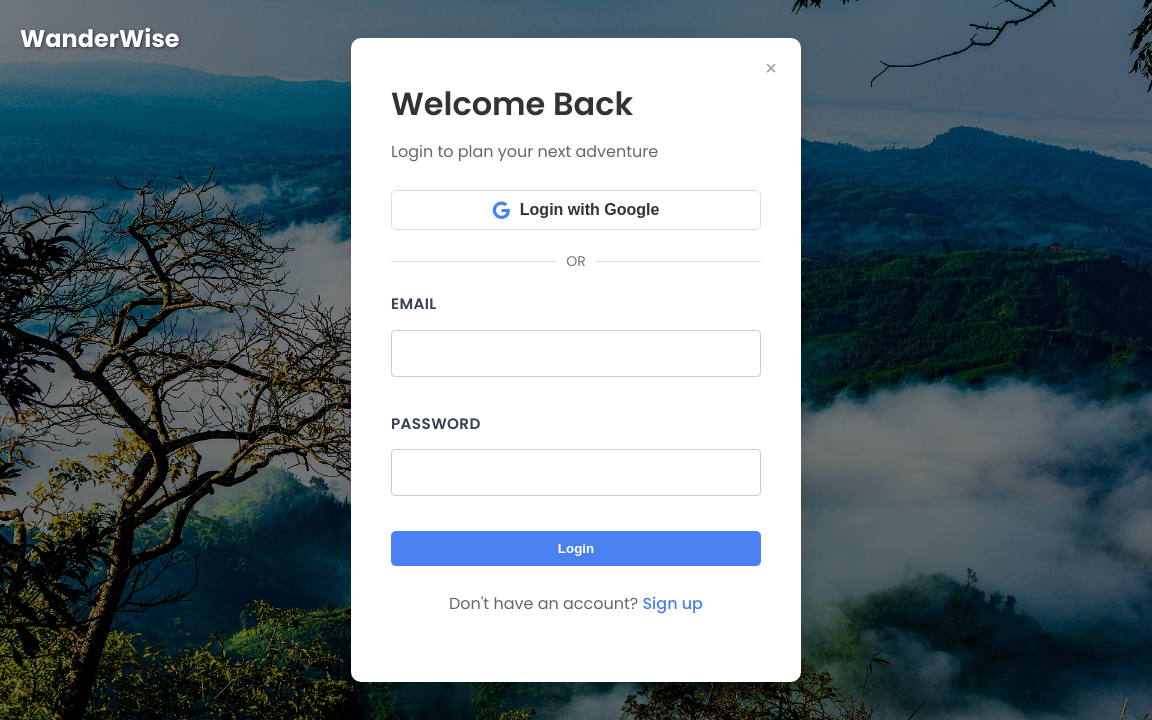
Test: Authentication Integration Tests › Login Flow Integration › login with network error shows generic error
The image size is (1152, 720).
Type "test@example.com" into the field labelled "Email" at (576, 353), box [391,330,761,377]
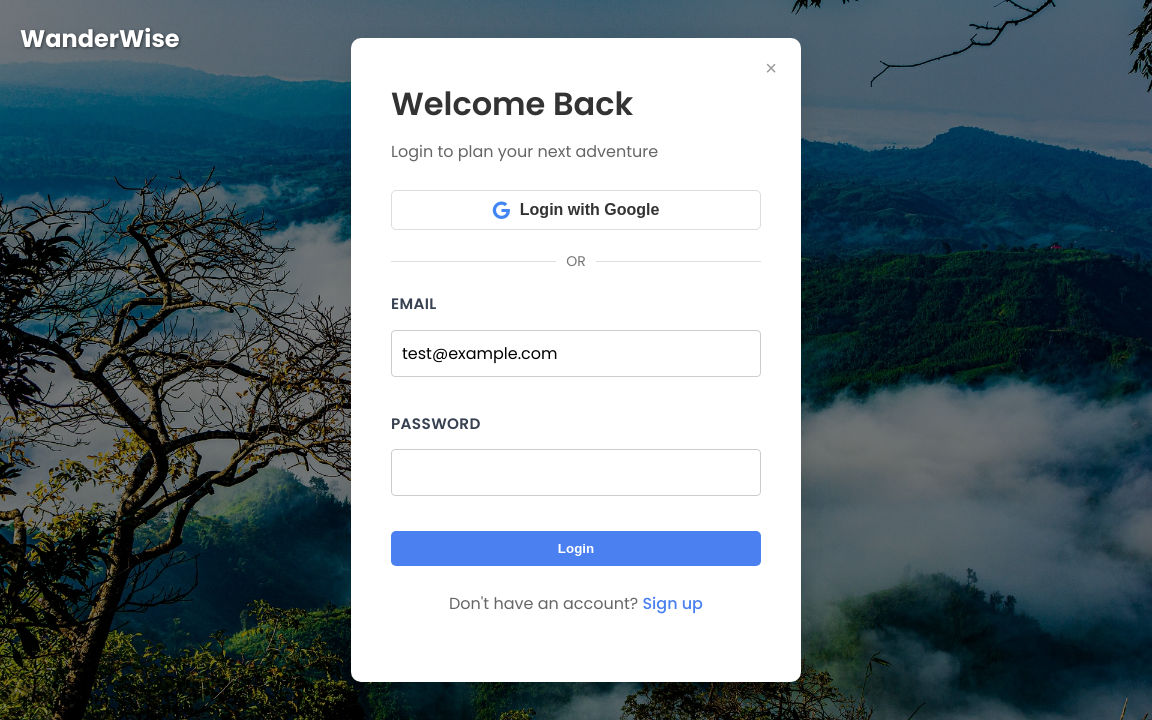
Type "password123" into the password field labelled "Password" at (576, 473), box [391,449,761,496]
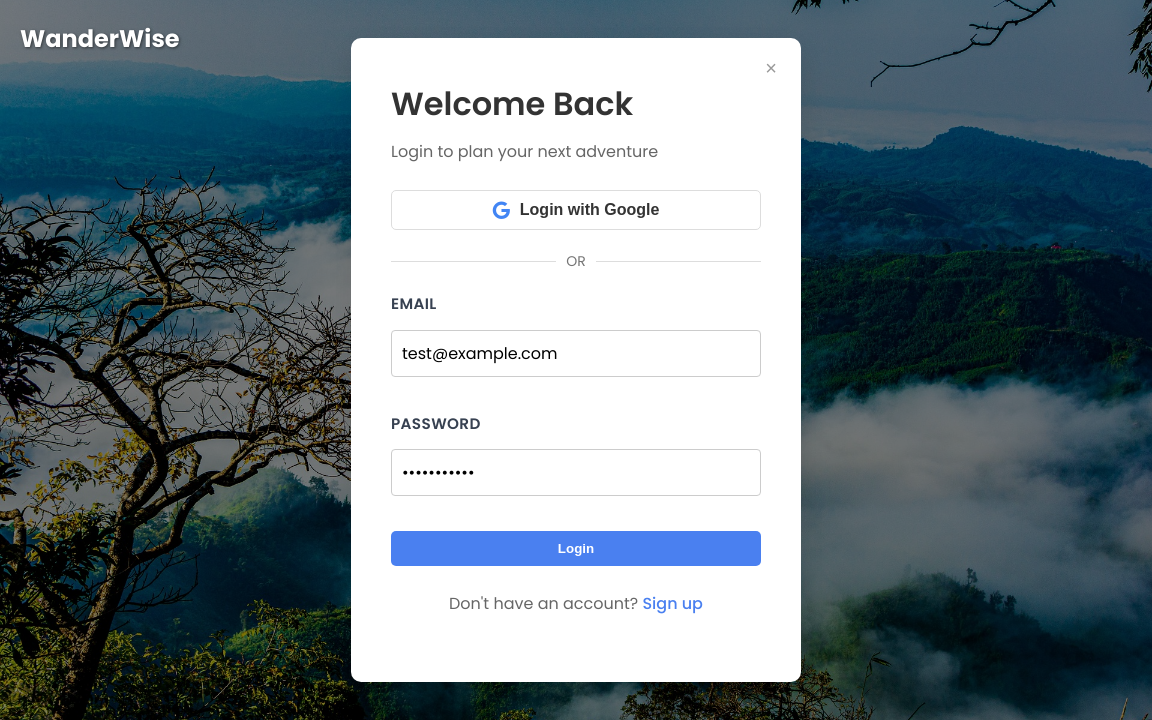
Click the button "Login" at (576, 549), box [391,531,761,566]
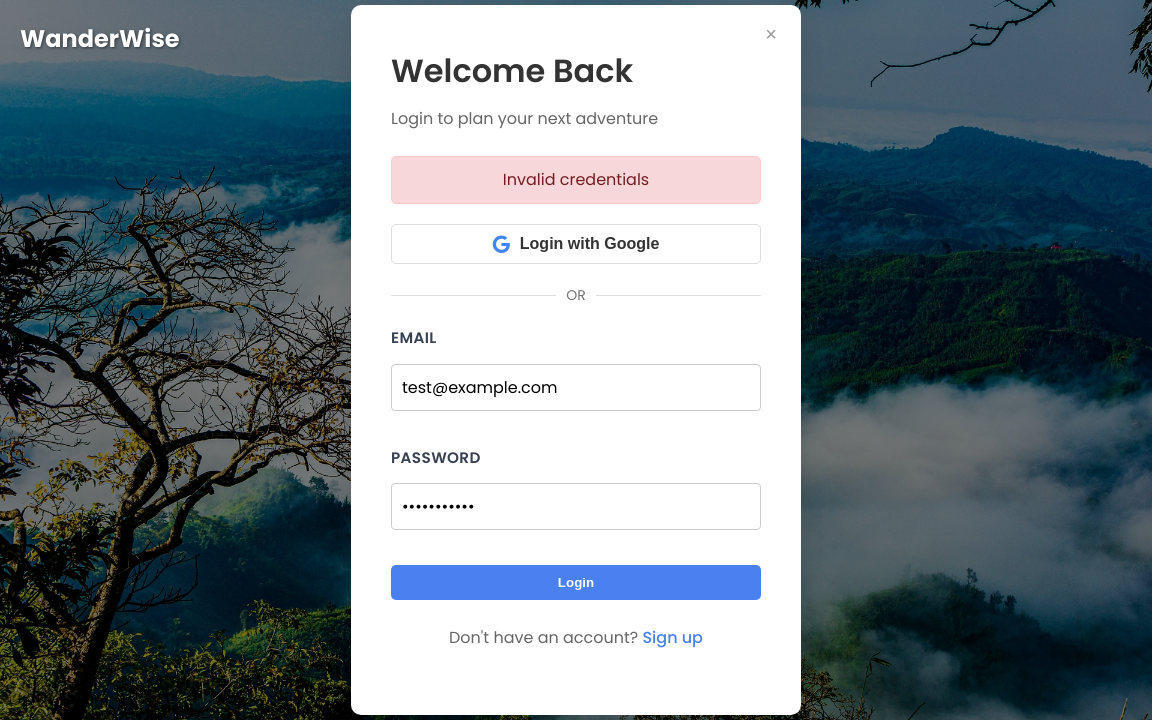
Check: the text "Invalid credentials" is shown, box [391,156,761,204]
